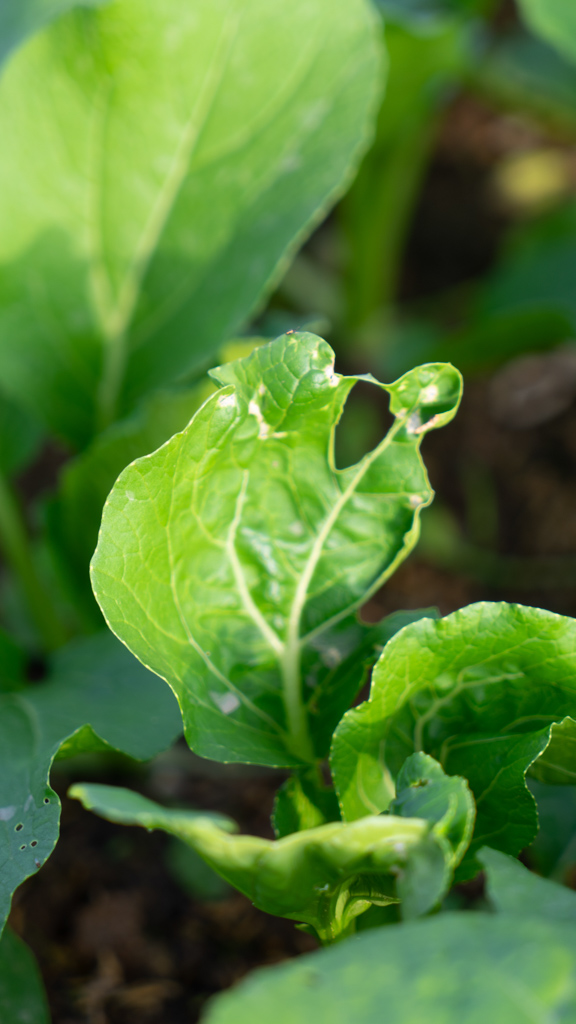Leaf Curl Disease: (85, 329, 467, 773)
